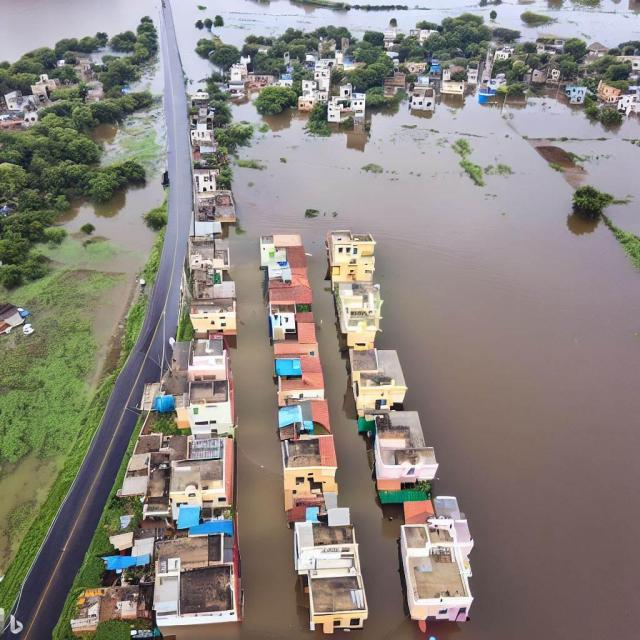flood: (172, 88, 640, 640), (171, 0, 640, 90), (38, 101, 166, 391), (0, 0, 159, 59), (0, 451, 65, 563), (132, 60, 162, 95)
house: (402, 495, 478, 623), (157, 531, 242, 626), (301, 551, 370, 633), (166, 434, 236, 506), (348, 348, 408, 411), (285, 468, 347, 520), (292, 520, 362, 564), (273, 342, 327, 398), (188, 353, 234, 418), (374, 444, 439, 488), (327, 229, 377, 280), (336, 282, 383, 330), (282, 432, 340, 469), (278, 400, 334, 438), (187, 236, 232, 281), (188, 298, 238, 337), (260, 233, 309, 268), (266, 270, 316, 304), (323, 90, 368, 126), (268, 312, 318, 344), (196, 190, 237, 224), (0, 302, 32, 338), (304, 59, 334, 94), (410, 74, 435, 110), (596, 80, 624, 110), (440, 70, 467, 100), (347, 323, 378, 348), (192, 167, 220, 193), (384, 75, 411, 98), (28, 82, 53, 106), (190, 119, 213, 143), (566, 84, 593, 104), (196, 218, 223, 238), (229, 62, 244, 82)
